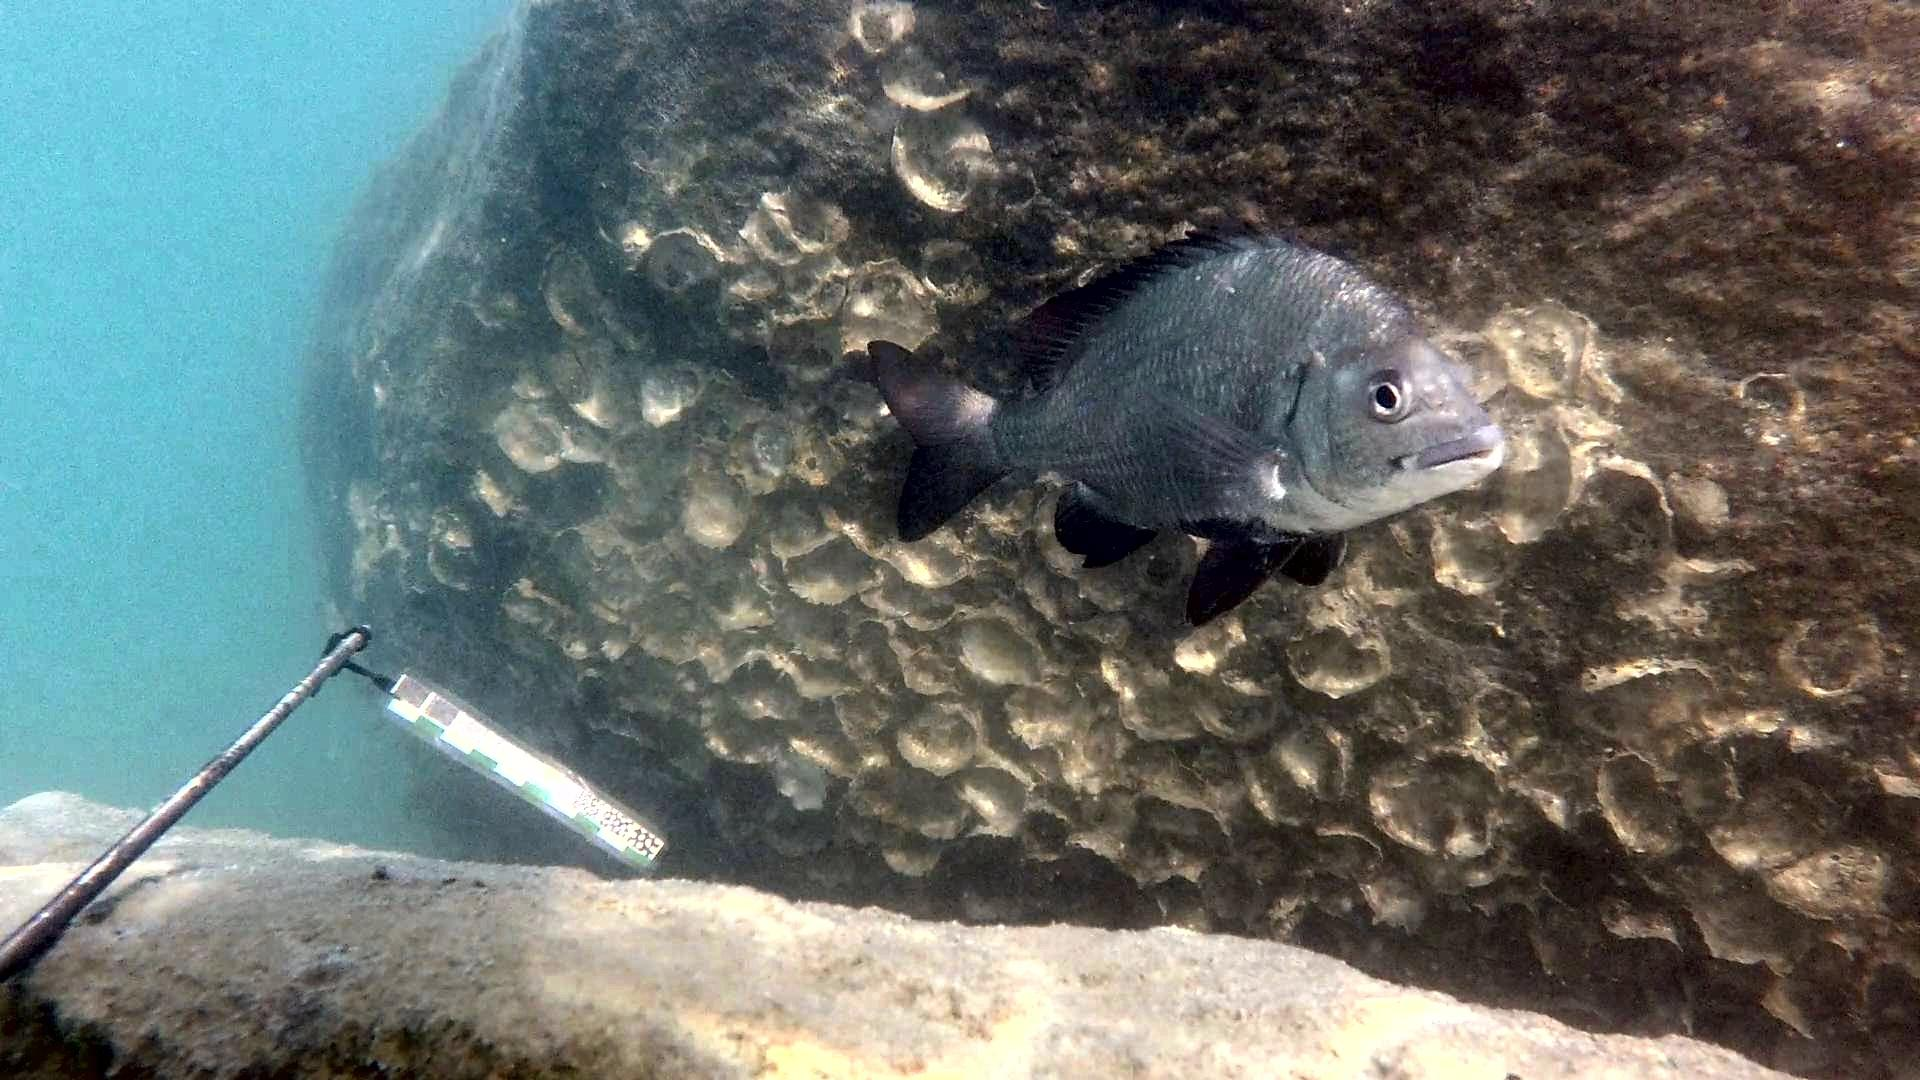acanthopagrus palmaris: (858, 211, 1511, 636)
